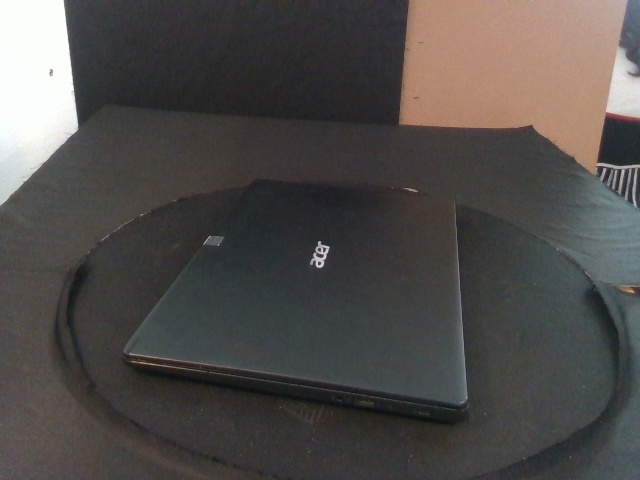laptop: (120, 177, 469, 427)
